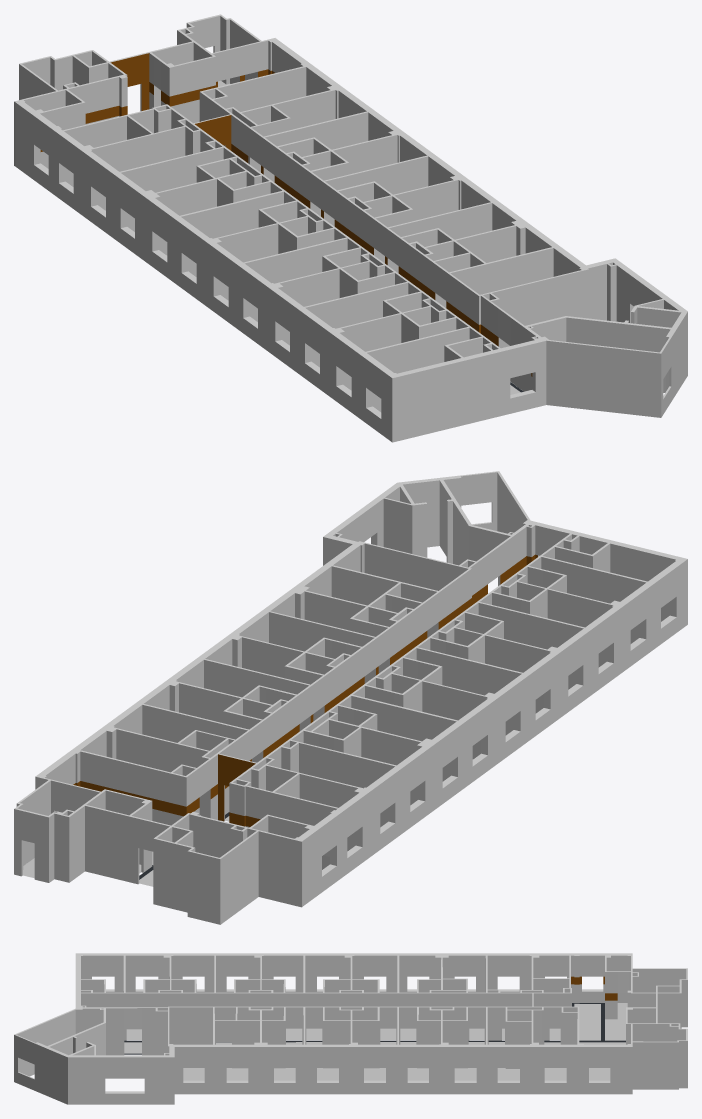
File: Palata2Block.fbx
The picture shows the model from 3 angles, top to bottom: view 1: azimuth 30°, elevation 25°; view 2: azimuth 150°, elevation 25°; view 3: azimuth 270°, elevation 25°; orthographic projection. The views are drawn at different scales.
Visible parts, largest first — view 1: Plane; view 2: Plane; view 3: Plane.
Part boxes in pixels (x1,y1,x2,y2): Plane: (14,14,687,442); Plane: (14,471,687,924); Plane: (14,953,687,1104).
Bounding box in the file's own units: 1987 × 420 × 5425.
